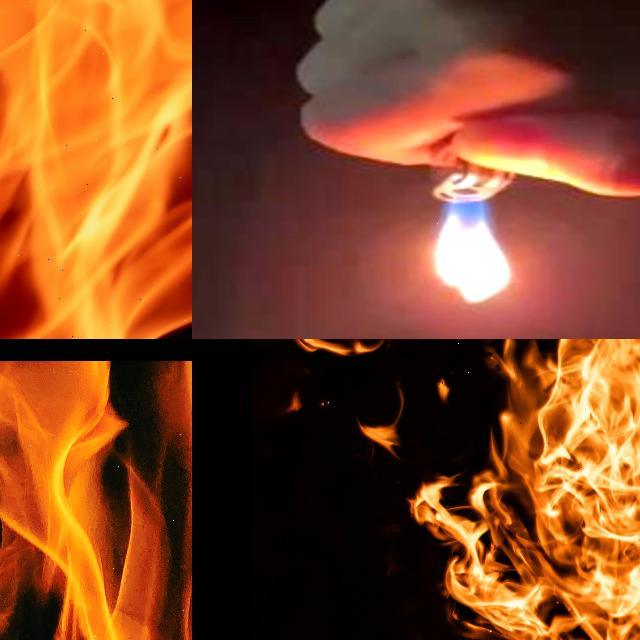fire: (413, 339, 640, 640), (0, 0, 192, 339), (0, 361, 192, 640), (433, 163, 513, 304)
